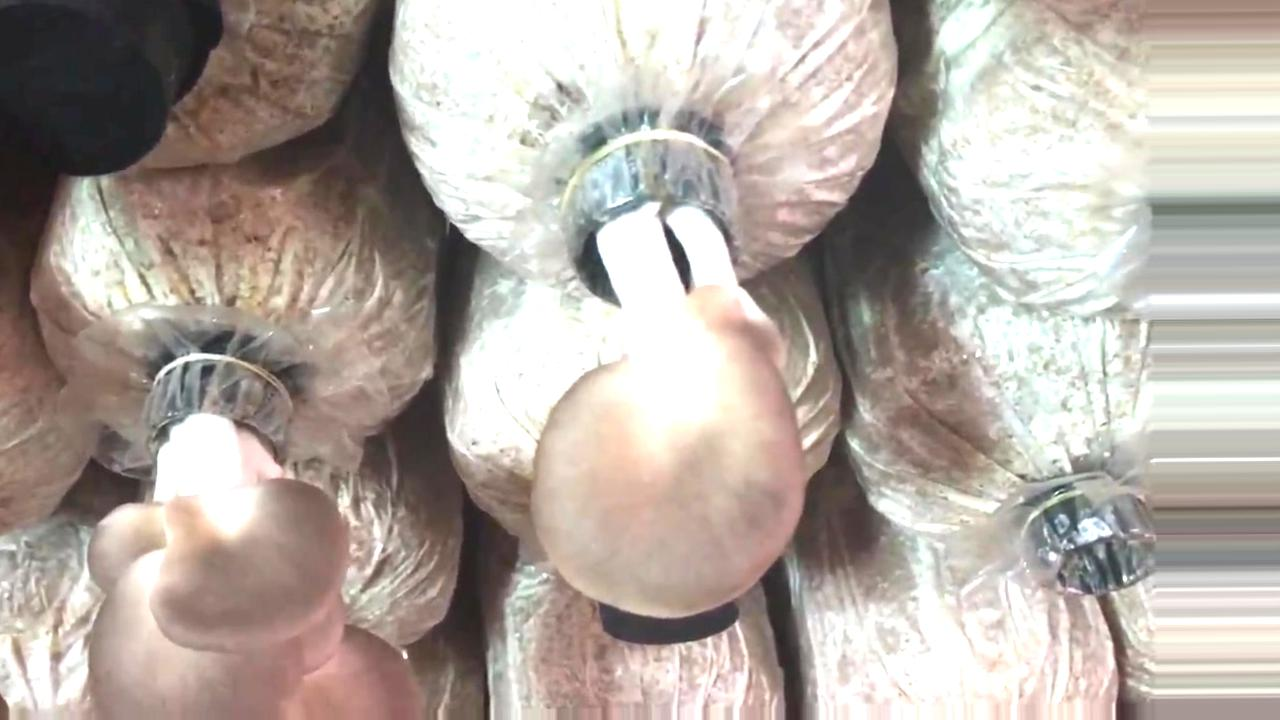nam: (532, 137, 805, 615), (91, 360, 415, 720)
